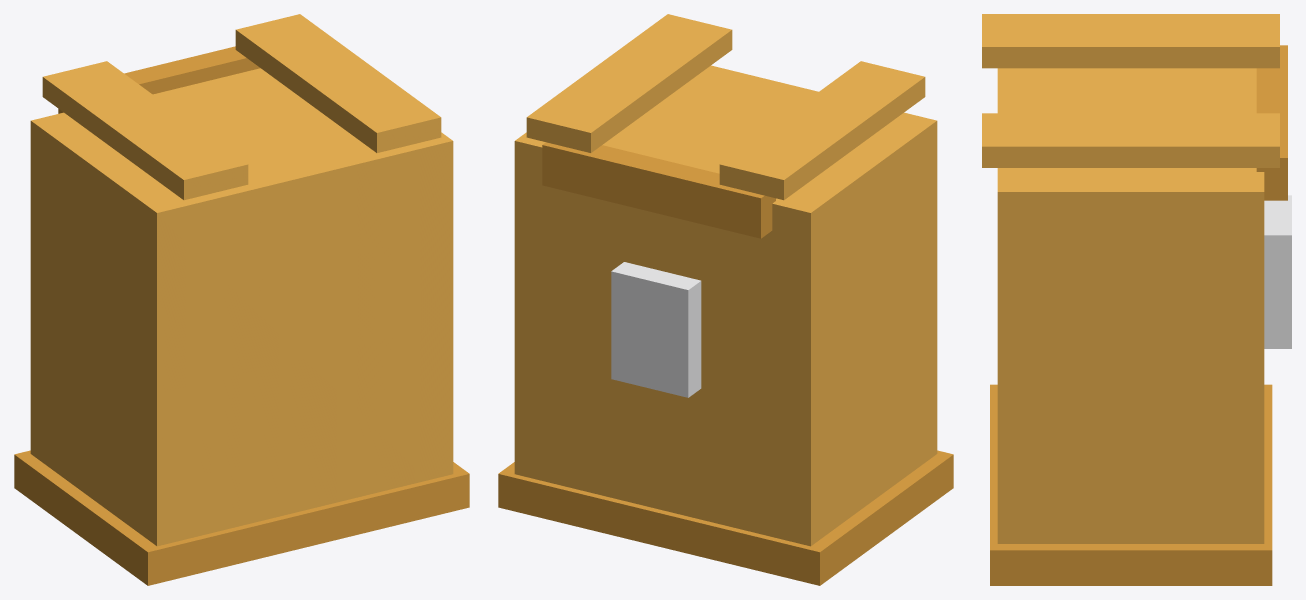
The model's file is basquete_tronco.glb.
The picture shows the model from 3 angles, left to right: view 1: azimuth 30°, elevation 25°; view 2: azimuth 150°, elevation 25°; view 3: azimuth 270°, elevation 25°; orthographic projection. The views are drawn at different scales.
Parts seen in each view (by area): view 1: basquete_tronco; view 2: basquete_tronco; view 3: basquete_tronco.
Part boxes in pixels (<box>): basquete_tronco: <box>14,14,469,585</box>; basquete_tronco: <box>498,14,953,585</box>; basquete_tronco: <box>982,14,1291,585</box>.
Size of the model in its own units: 0.5 by 0.595 by 0.395.
